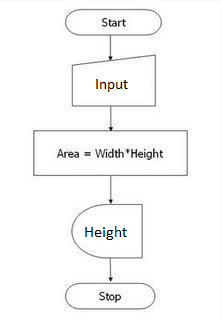arrow: (106, 257, 115, 283), (105, 32, 113, 61), (107, 175, 114, 205), (107, 107, 114, 131)
process: (31, 128, 190, 177), (68, 53, 157, 108), (70, 203, 147, 261)
terminator: (63, 7, 162, 37), (63, 281, 155, 311)
text: (54, 146, 163, 161), (82, 225, 127, 241), (94, 76, 127, 91), (98, 14, 127, 29), (96, 289, 122, 302)
